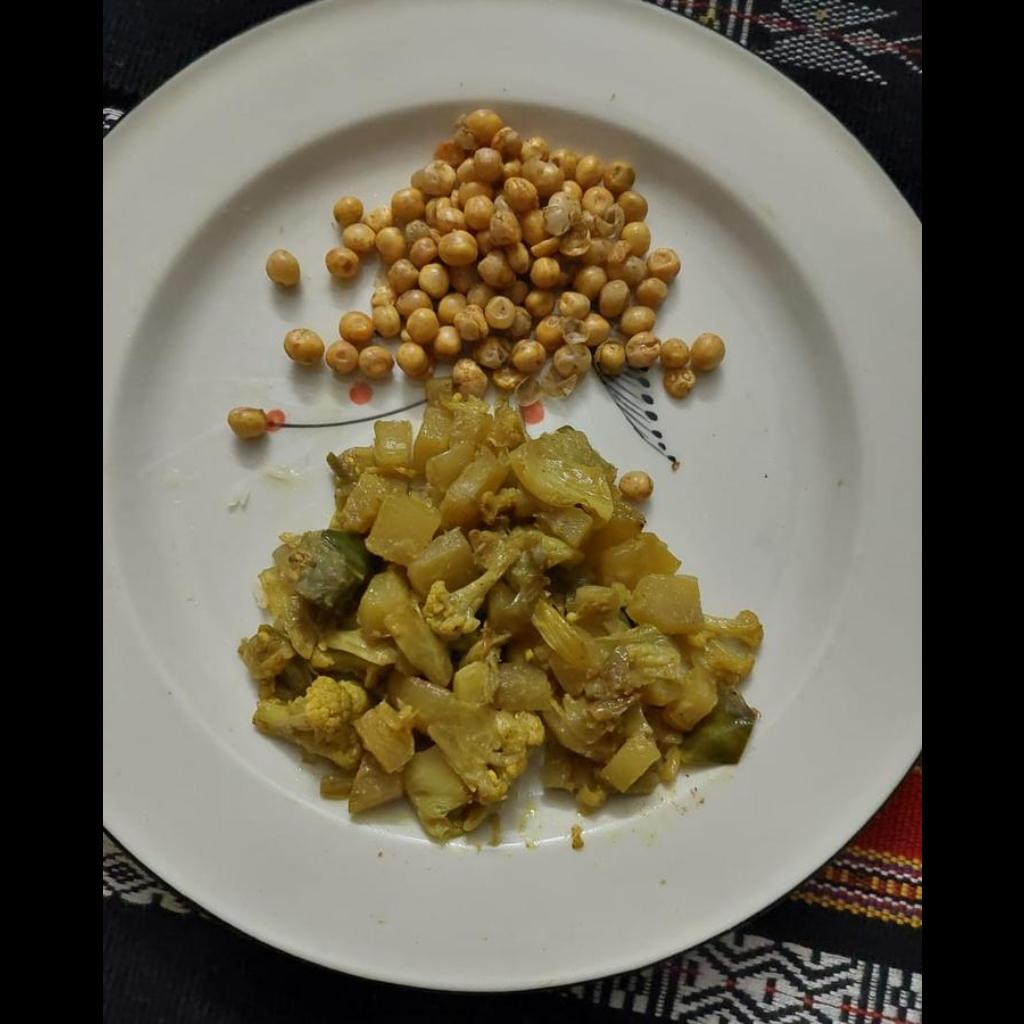daal: (295, 110, 723, 397)
vegetable: (229, 408, 768, 833)
